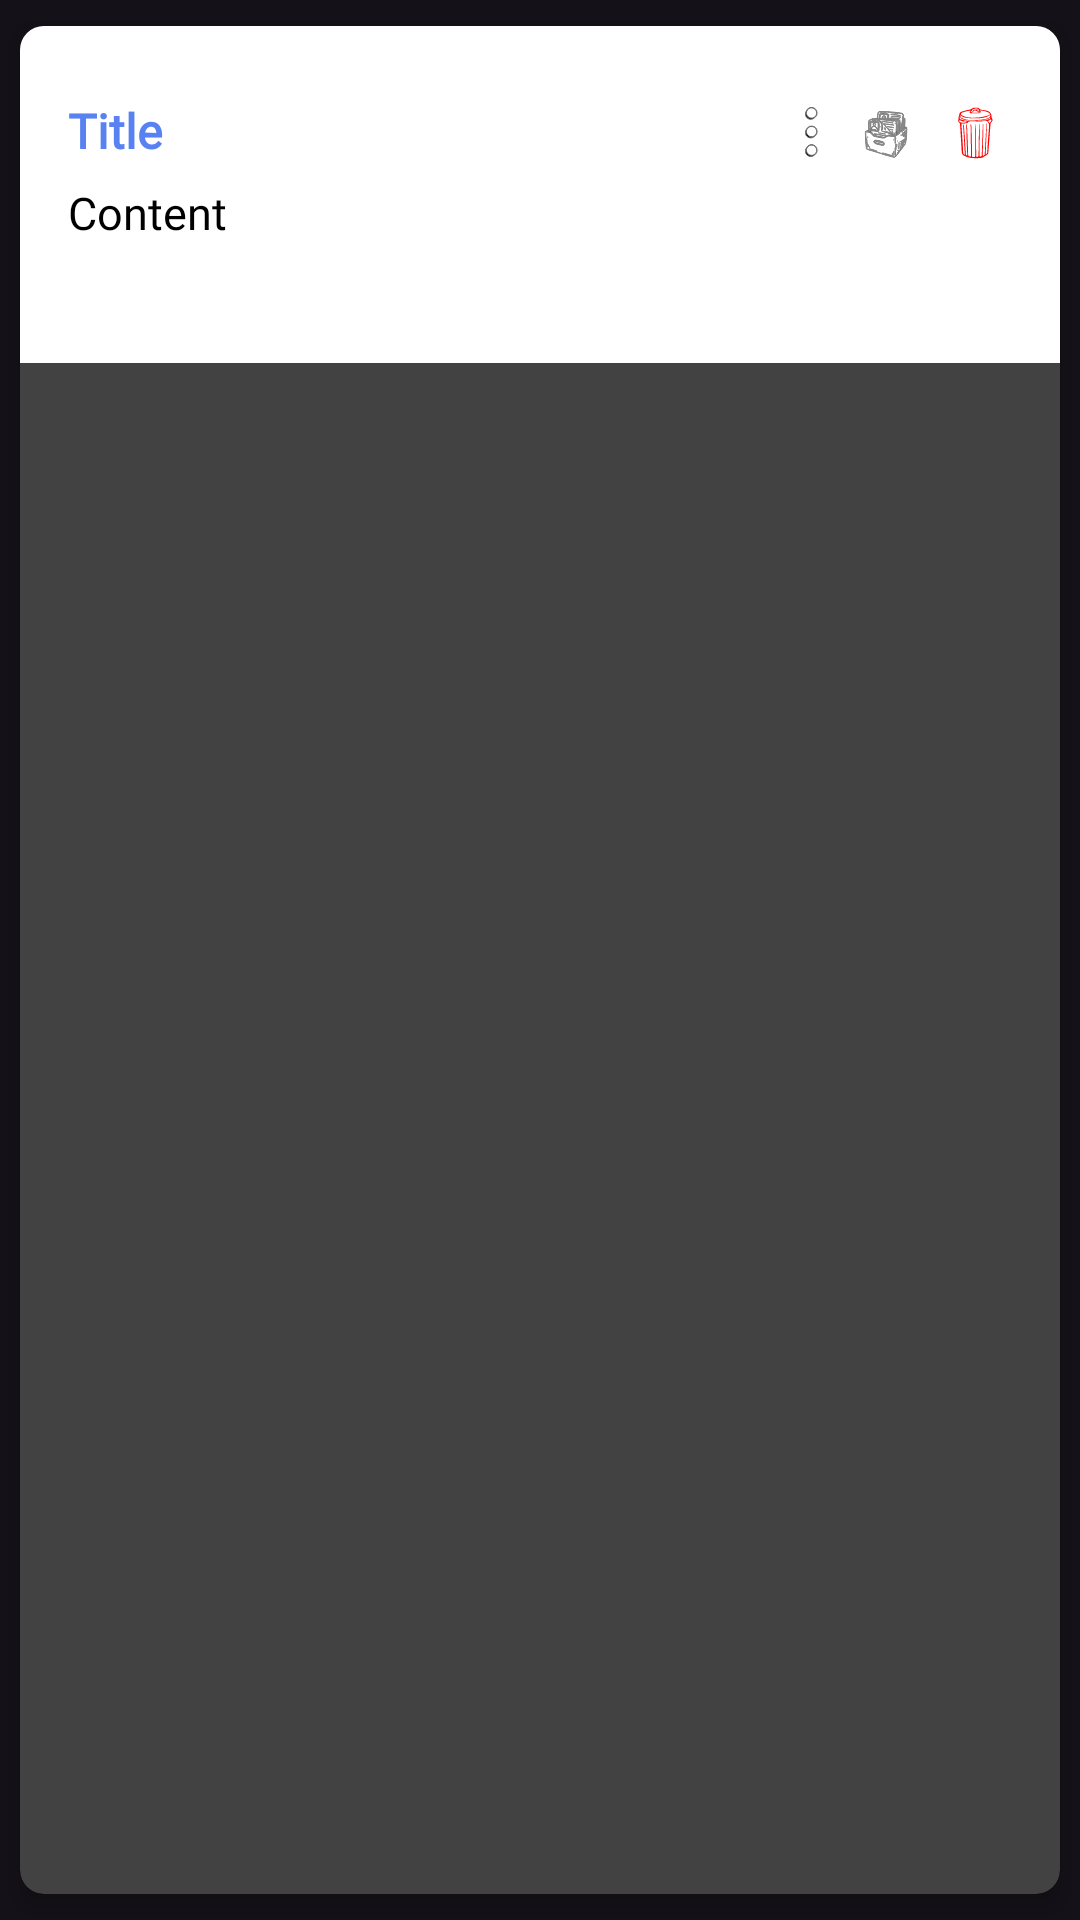

Named icons in this screenshot (1080*1920) and their centers, point (x, y):
archives: point (886, 134)
more info: point (811, 132)
trash: point (975, 133)
